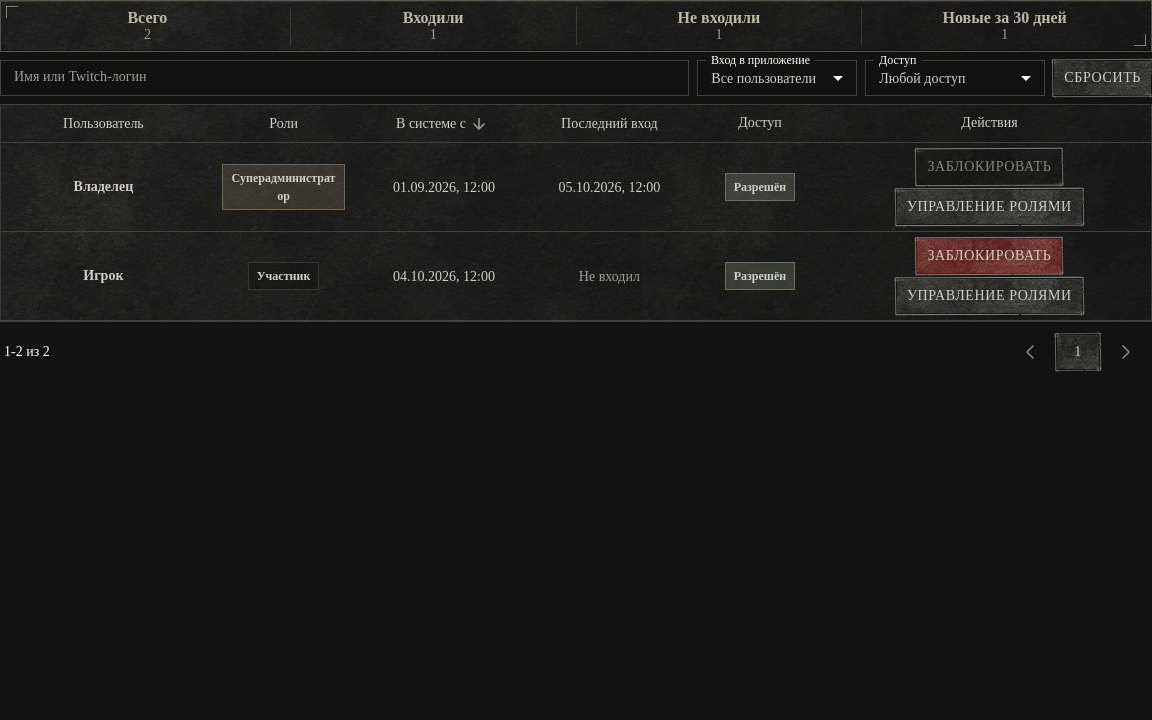
Test: RoleAdministrationPage › retains the access confirmation on failure and disables closing during retry
Step 1. Click the button with aria-label "Заблокировать: Игрок" → (989, 256), box [916,238,1062,274]
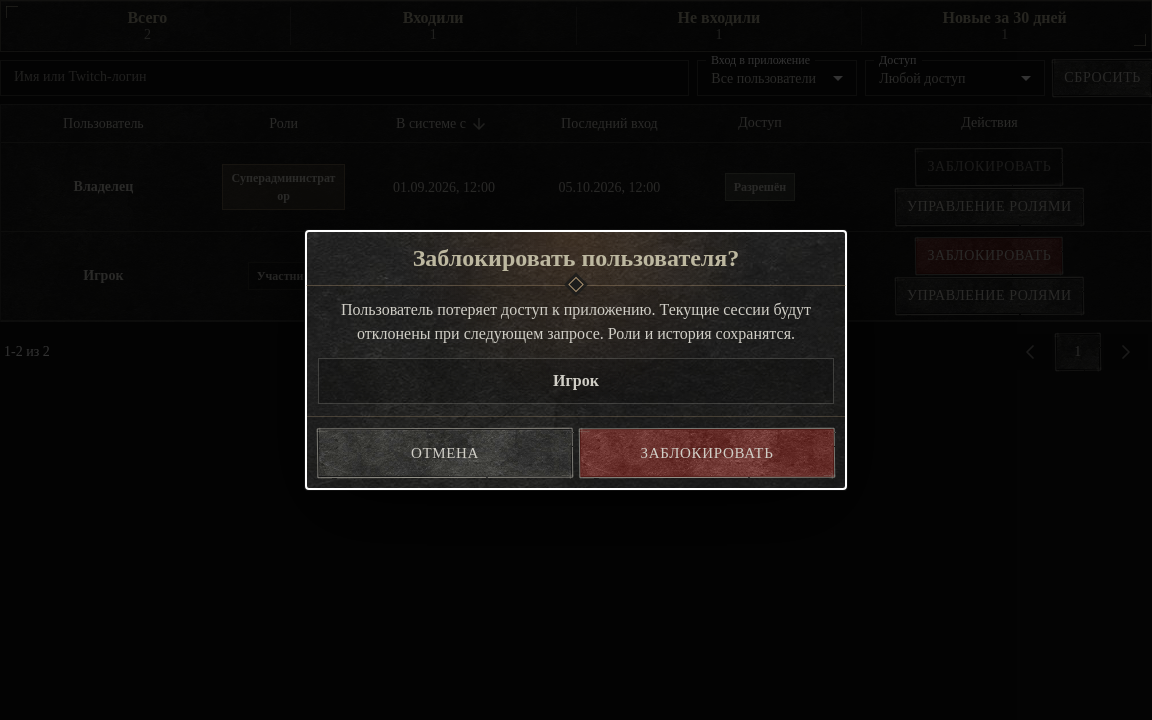
Step 2. Click the button "Заблокировать" → (707, 453), box [580,429,834,477]
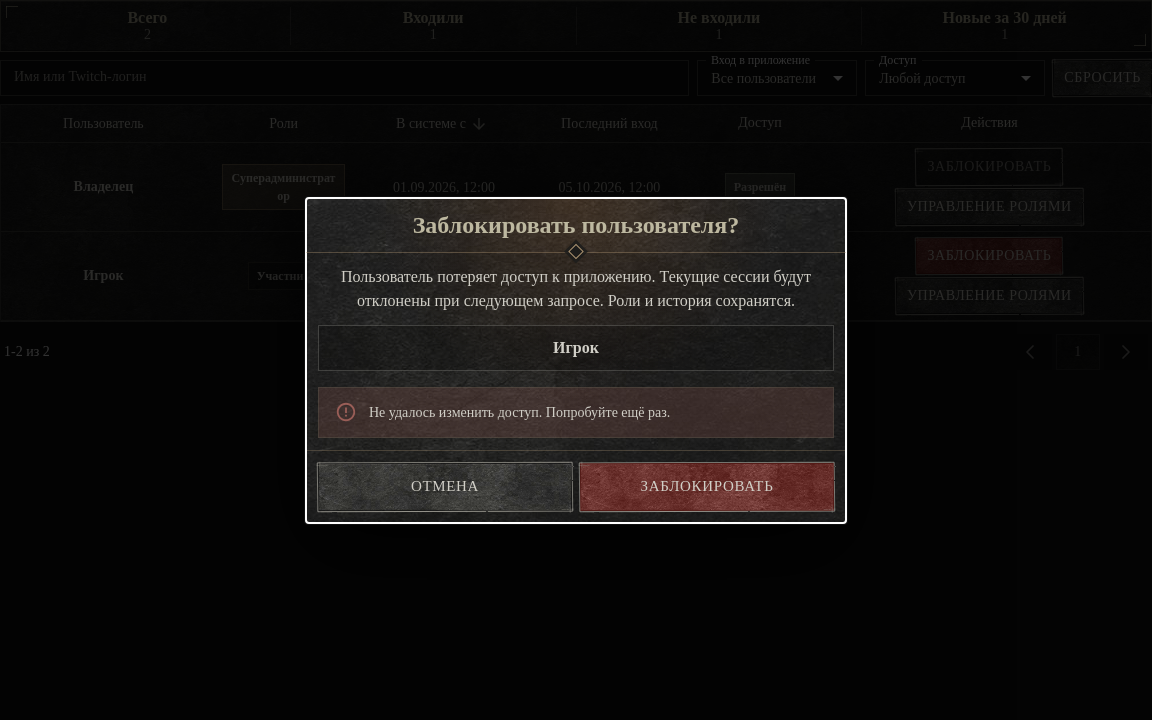
Expected: the message "Не удалось изменить доступ. Попробуйте ещё раз." is shown, [318,386,834,438]
Step 3. Click the button "Заблокировать" → (707, 486), box [580,462,834,510]
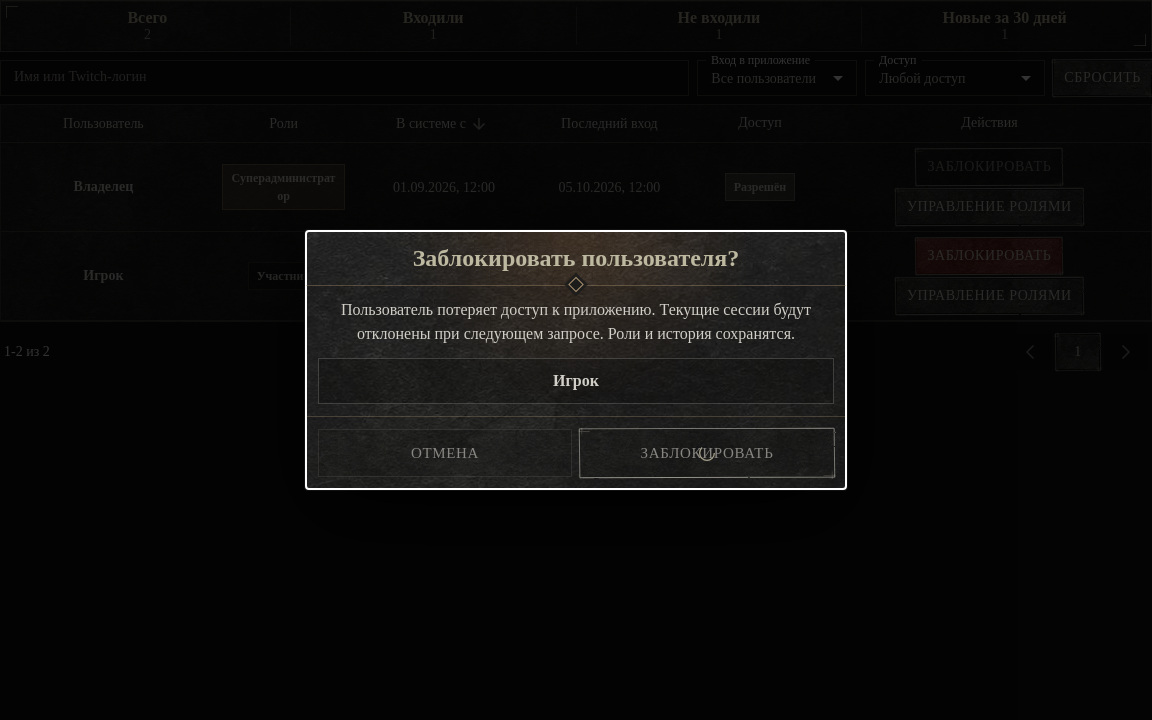
Expected: the button "Отмена" is disabled, [318,429,572,477]
Step 4. Click the button "Заблокировать" → (707, 453), box [580,429,834,477]
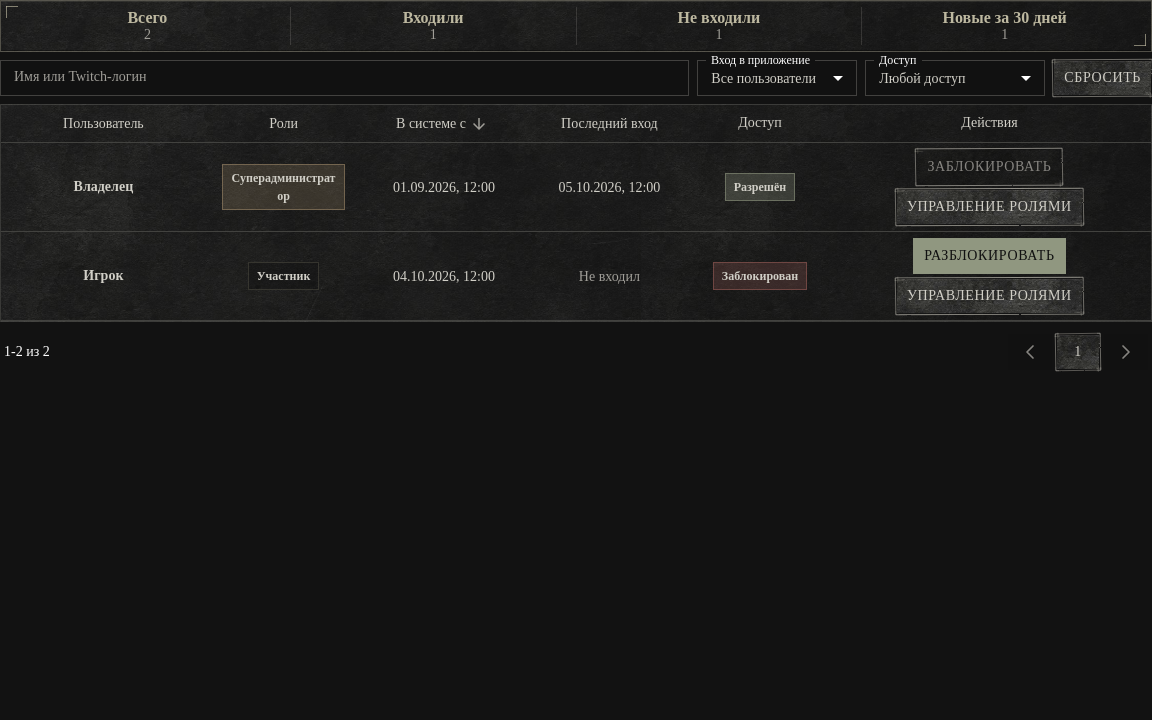
Expected: the dialog is gone
